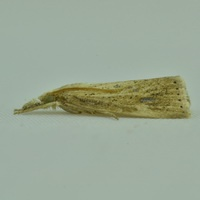insect: (14, 76, 190, 118)
